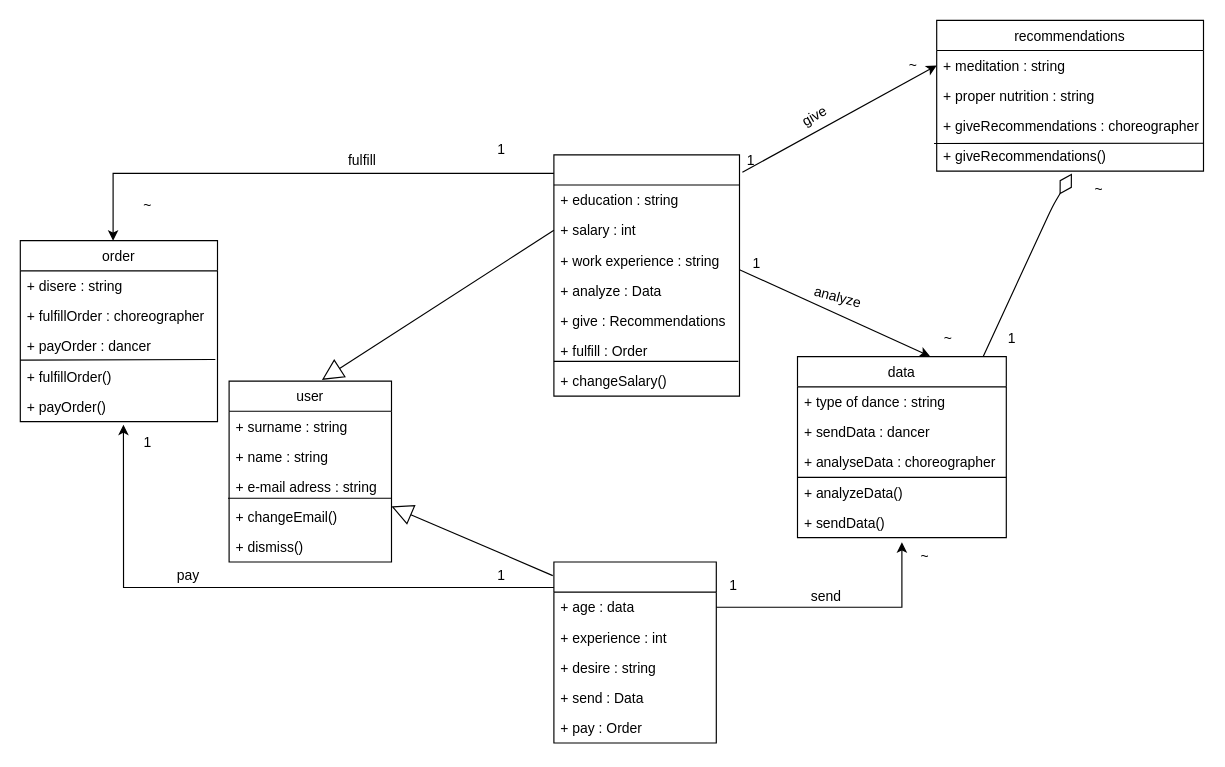
Some shapes in this 1225 by 767 pixel diagram are drawn without their labels. Here are the shapes that lost their labels. From the top down, the box of each, then its label:
(553, 154, 740, 396): choreographer
(553, 561, 716, 743): dancer
